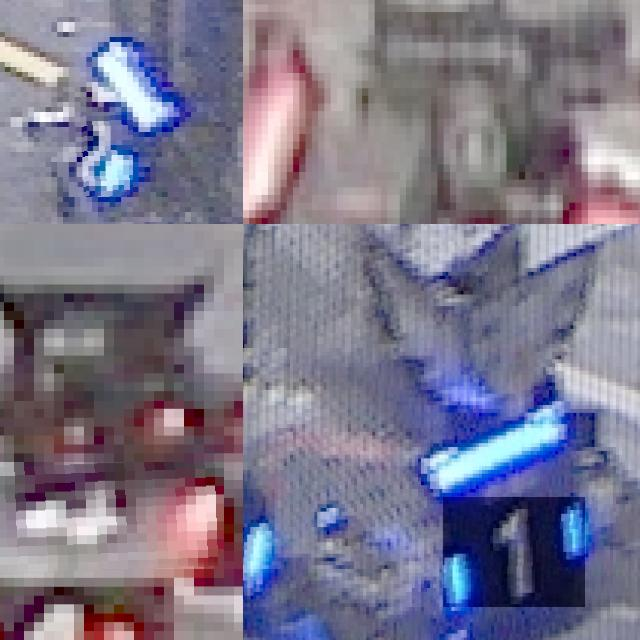B1: (443, 497, 585, 607)
B2: (69, 112, 133, 197)
R4: (0, 462, 224, 577), (0, 604, 154, 640)
